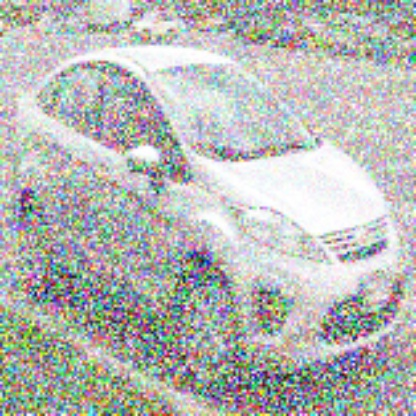Vehicle: (6, 17, 404, 389)
